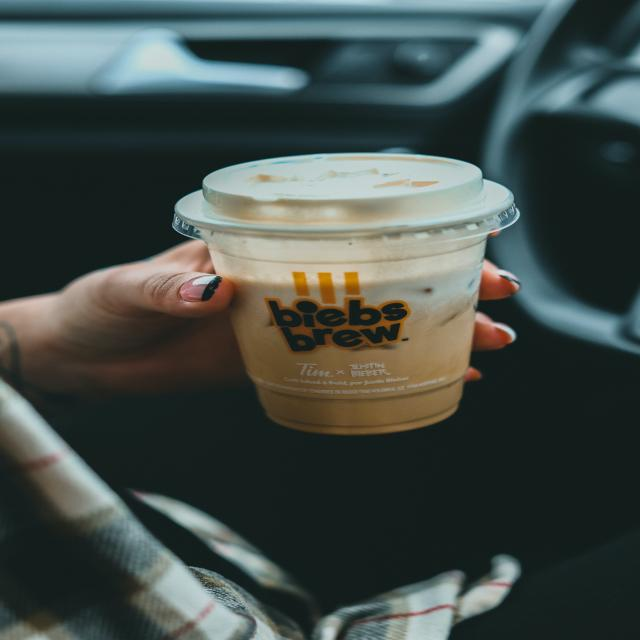cup: (170, 150, 524, 438)
